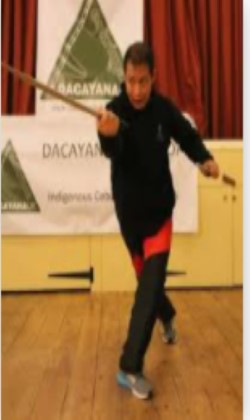baston_e: (4, 54, 91, 125)
